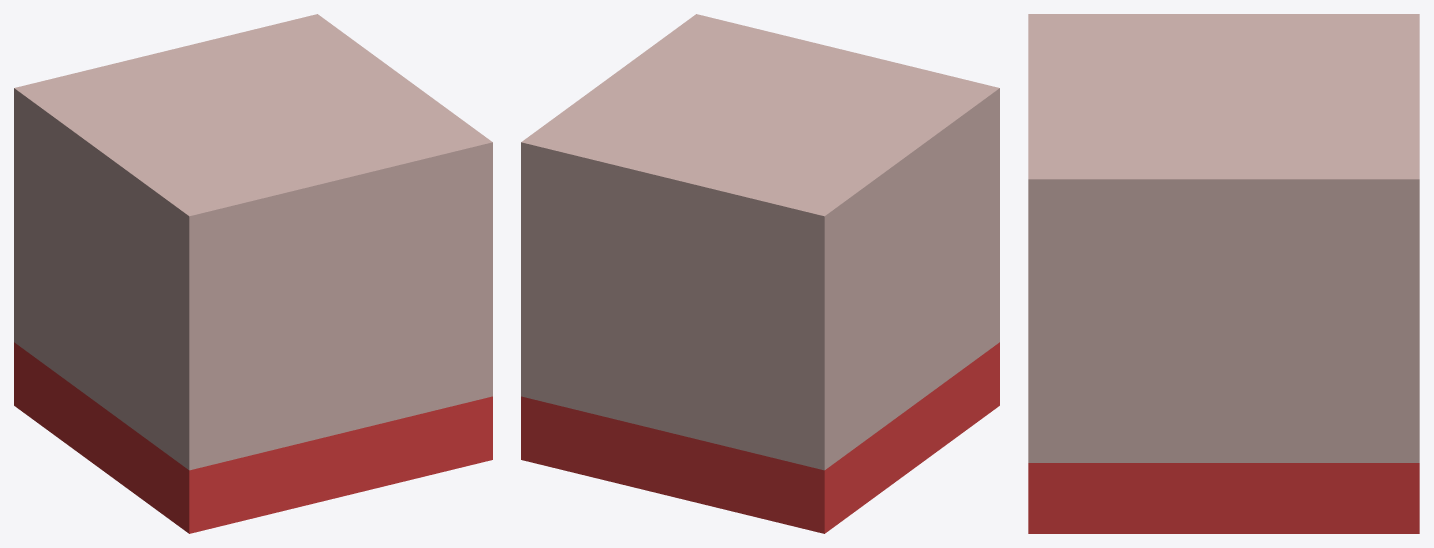
File: SingleBlock.glb
3 renders of one model, left to right at view 1: azimuth 30°, elevation 25°; view 2: azimuth 150°, elevation 25°; view 3: azimuth 270°, elevation 25°, orthographic. The views are drawn at different scales.
Visible parts, largest first — view 1: block; view 2: block; view 3: block.
Part boxes in pixels (box(x1,y1,x2,y2)): block: box(14, 14, 492, 533); block: box(521, 14, 999, 533); block: box(1028, 14, 1419, 533).
Bounding box in the file's own units: 1 × 1 × 1.
